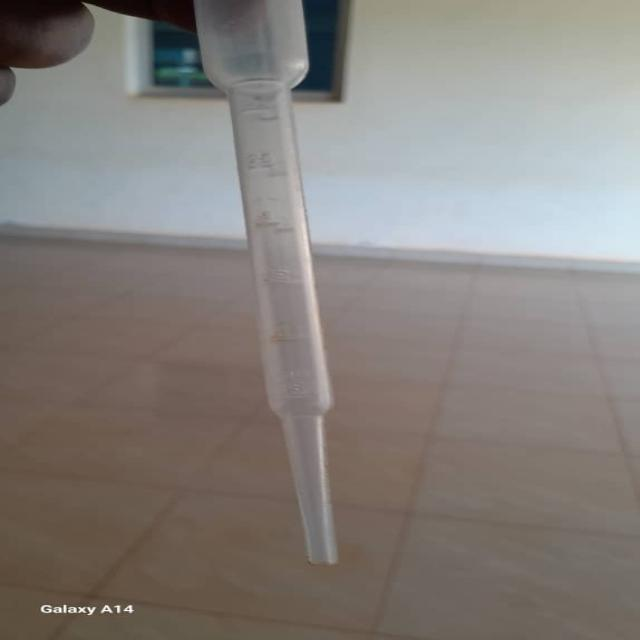Droppers: (188, 22, 344, 582)
